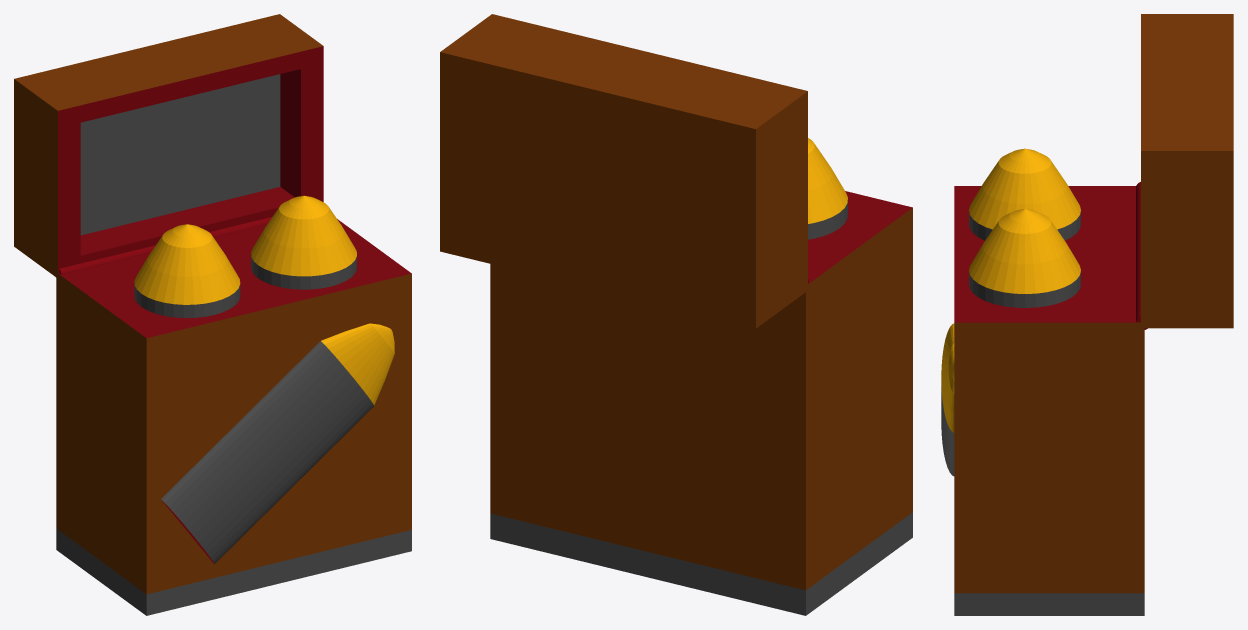
Rendered from LargeAmmo.fbx.
3 views of the same model, side by side, from view 1: azimuth 30°, elevation 25°; view 2: azimuth 150°, elevation 25°; view 3: azimuth 270°, elevation 25° (orthographic). The views are drawn at different scales.
Visible parts, largest first — view 1: Cylinder.013; view 2: Cylinder.013; view 3: Cylinder.013.
Part boxes in pixels (left/top/right/bottom): Cylinder.013: left=14, top=14, right=411, bottom=615; Cylinder.013: left=440, top=14, right=912, bottom=615; Cylinder.013: left=941, top=14, right=1233, bottom=615.
Bounding box in the file's own units: 31.15 × 49.31 × 28.1.
